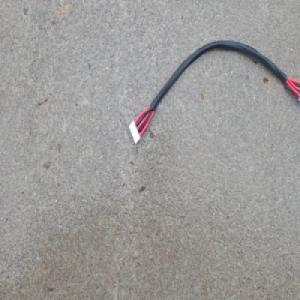Wire: (127, 38, 300, 146)
